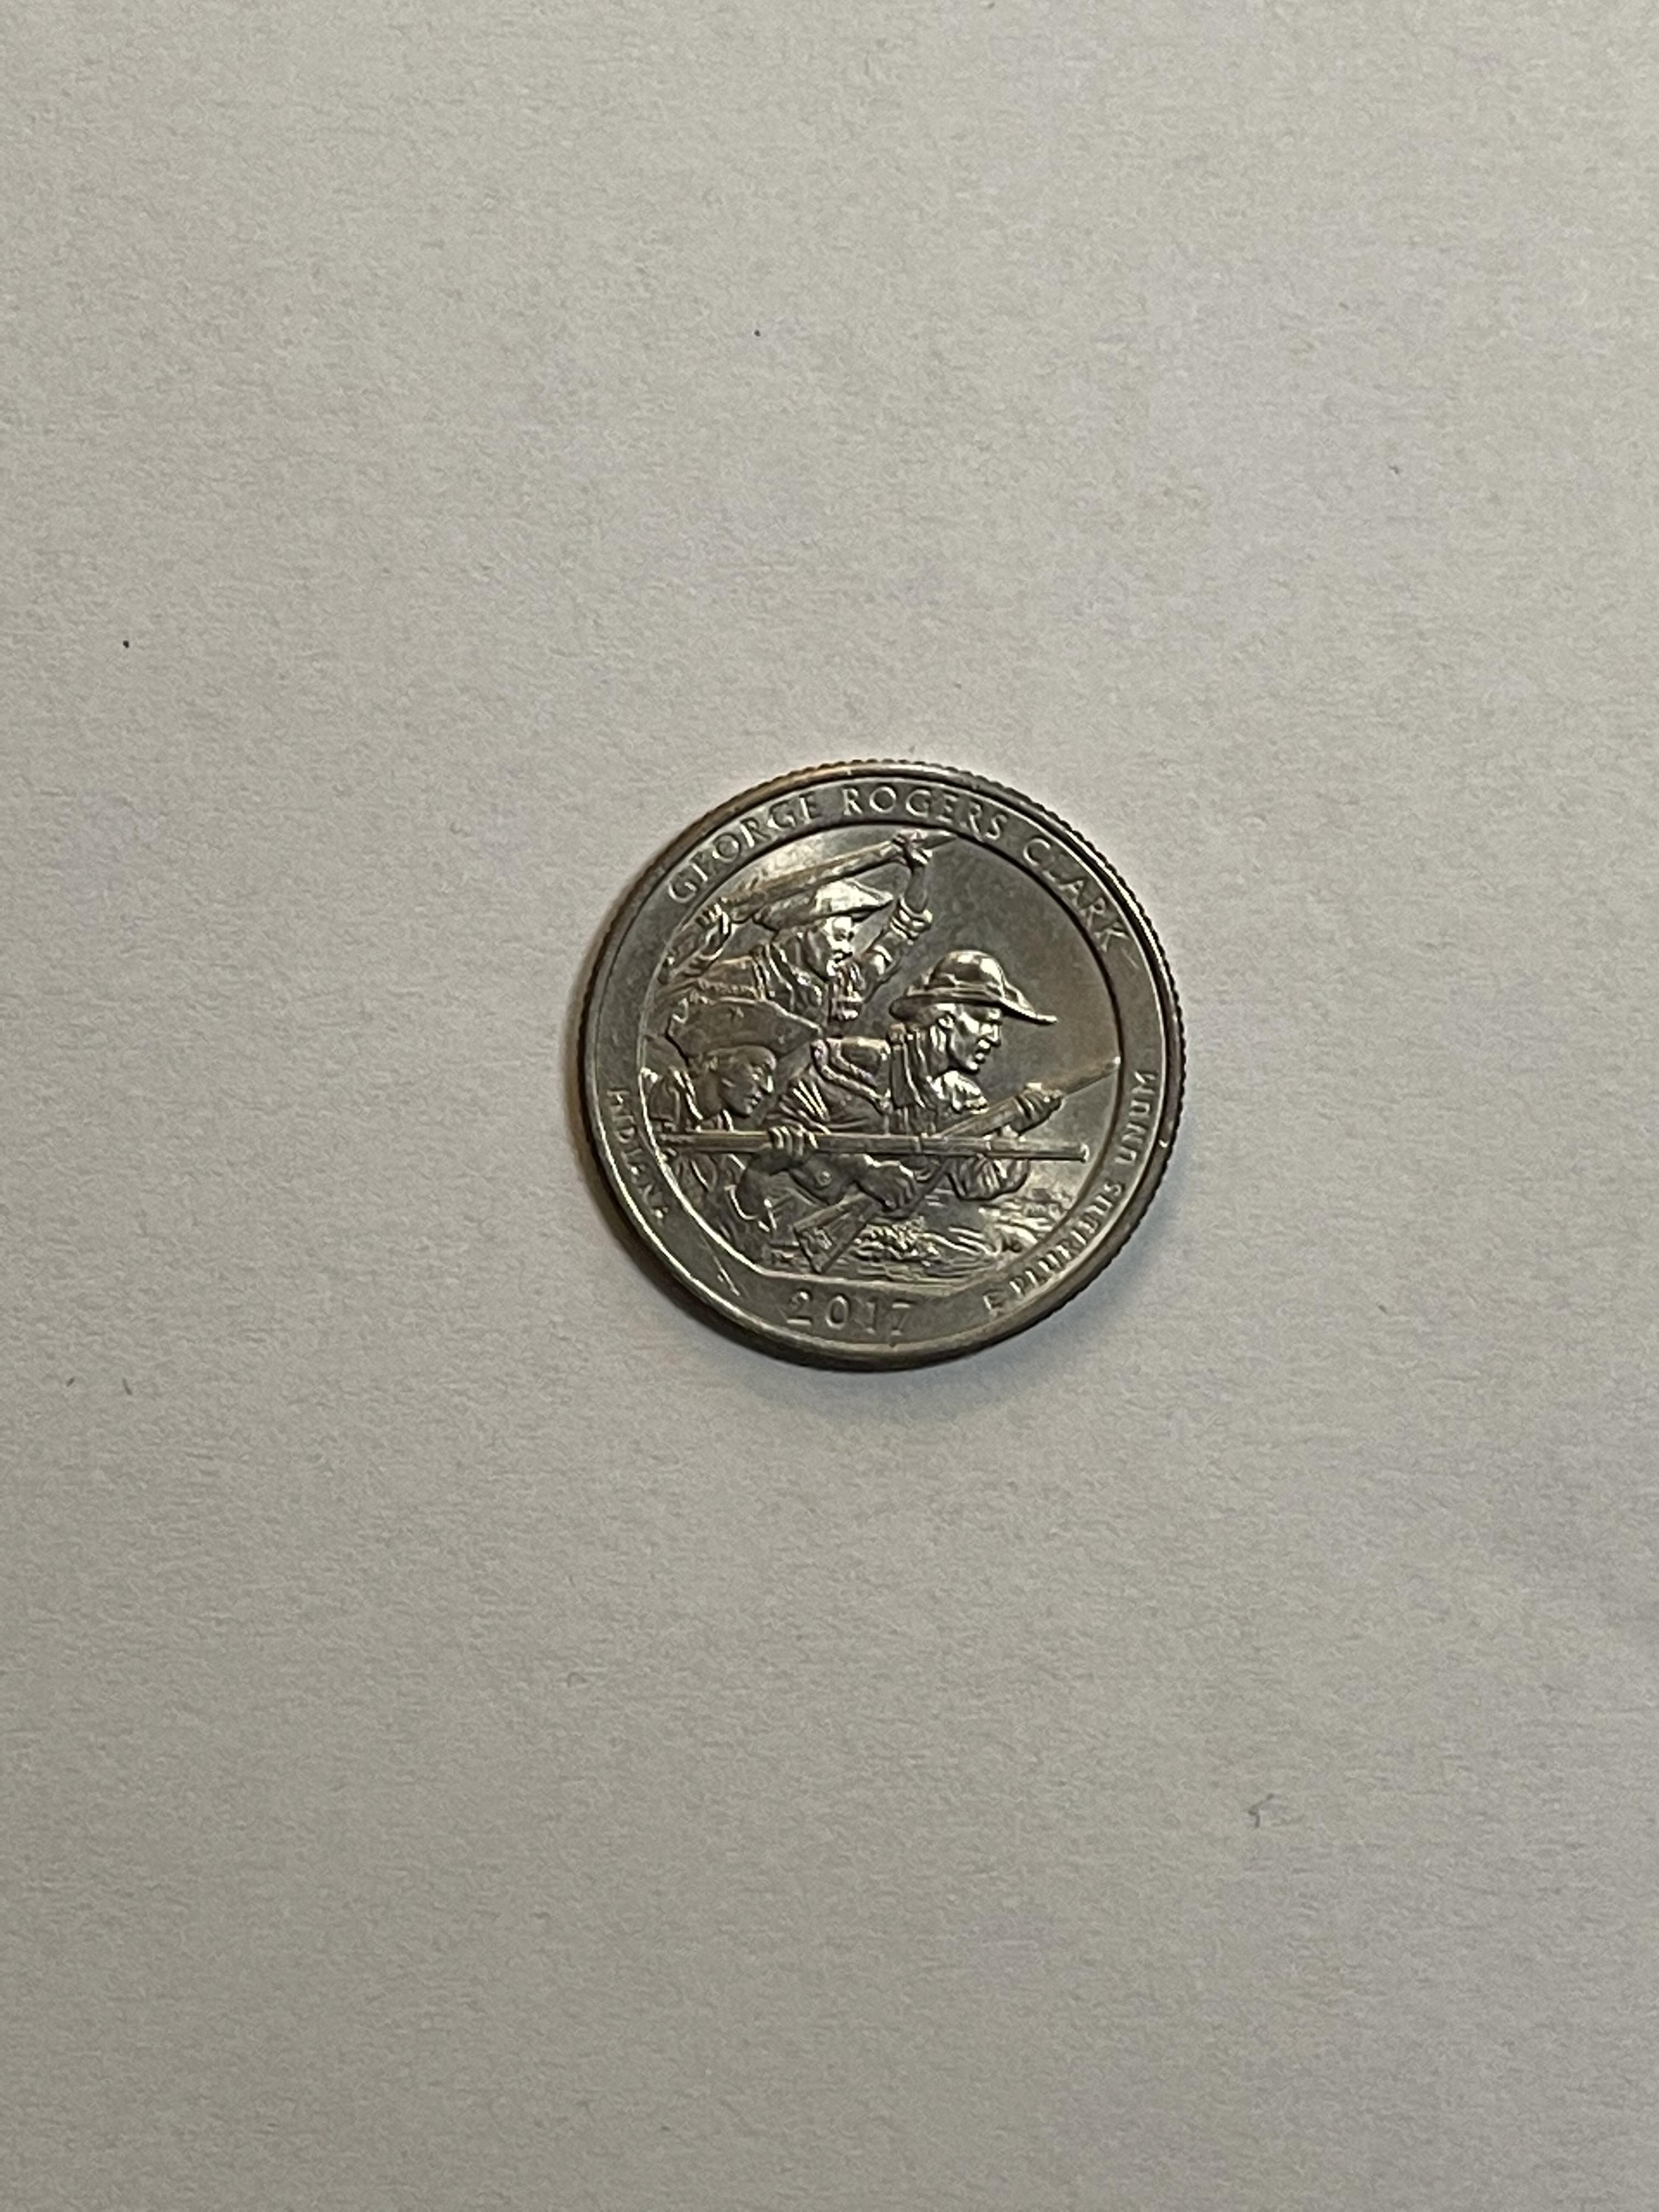Quarter: (575, 752, 1188, 1376)
